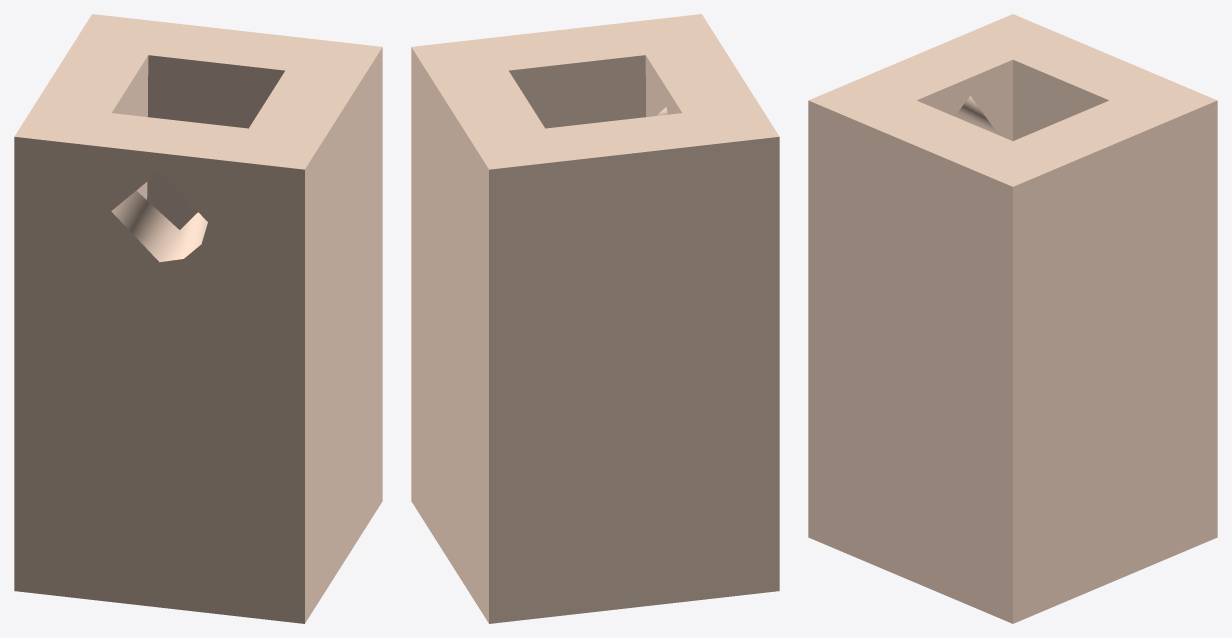
File: Marteau - pont marteau_Quart - Q.dessus.obj
The picture shows the model from 3 angles, left to right: view 1: azimuth 30°, elevation 25°; view 2: azimuth 150°, elevation 25°; view 3: azimuth 270°, elevation 25°; orthographic projection. The views are drawn at different scales.
Visible parts, largest first — view 1: Face_6, Face_7, Face_10, Face_3, Face_11, Face_4; view 2: Face_8, Face_9, Face_10, Face_2, Face_5; view 3: Face_7, Face_9, Face_10, Face_4, Face_5, Face_11.
Part boxes in pixels (box(x1,y1,x2,y2)): Face_6: box(14, 137, 304, 623); Face_7: box(305, 47, 382, 622); Face_10: box(14, 14, 382, 169); Face_3: box(147, 55, 284, 229); Face_11: box(111, 190, 207, 262); Face_4: box(112, 55, 148, 199); Face_8: box(489, 137, 779, 623); Face_9: box(411, 47, 488, 622); Face_10: box(411, 14, 779, 169); Face_2: box(509, 55, 646, 128); Face_5: box(645, 55, 681, 116); Face_7: box(808, 100, 1012, 623); Face_9: box(1013, 100, 1217, 623); Face_10: box(808, 14, 1217, 186); Face_4: box(1013, 60, 1108, 140); Face_5: box(917, 60, 1012, 140); Face_11: box(955, 96, 997, 134).
Size of the model in its own units: 0.0106 by 0.0125 by 0.0106.
